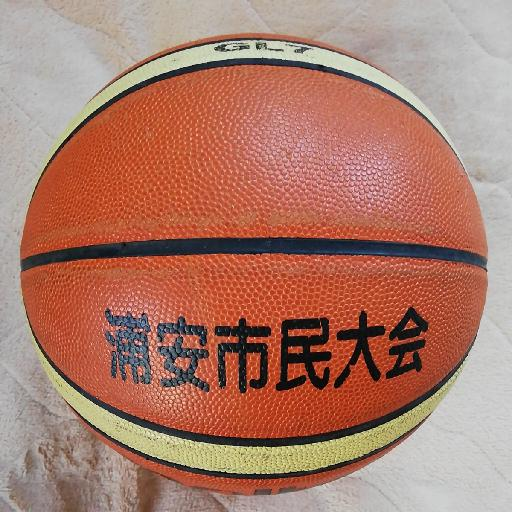ball: (19, 32, 489, 494)
